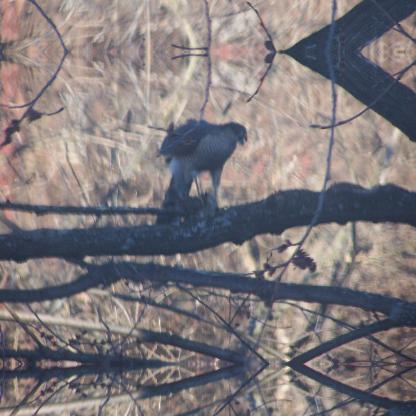Bird: (162, 115, 249, 211)
